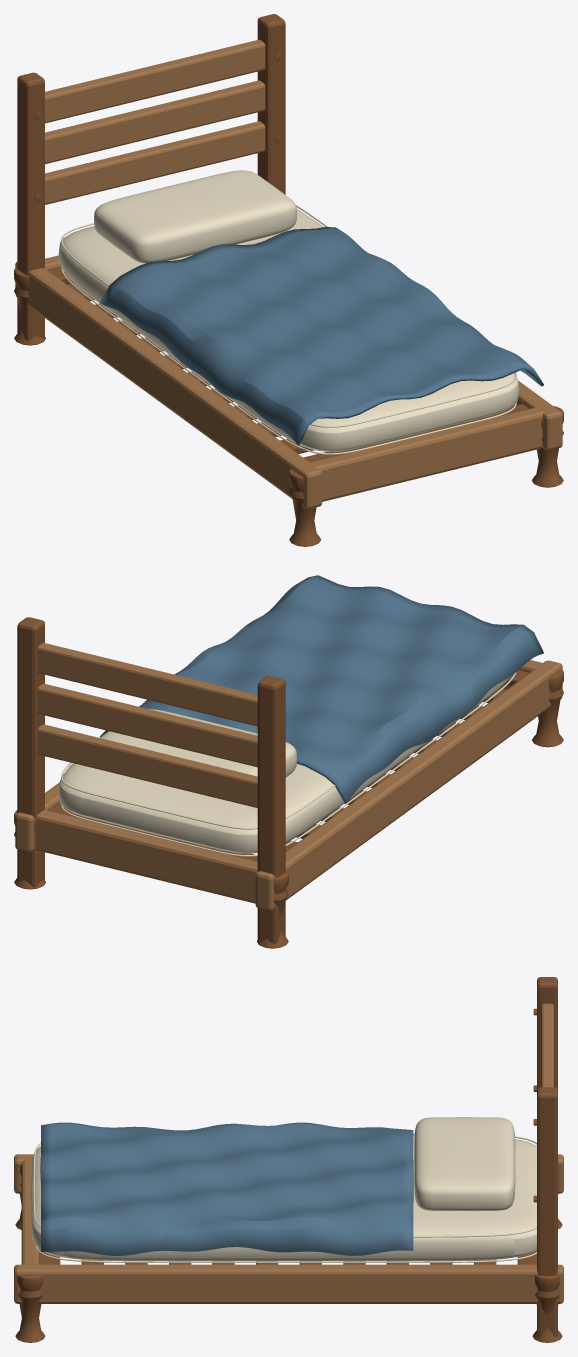
Rendered from bed_standard.glb.
The picture shows the model from 3 angles, top to bottom: view 1: azimuth 30°, elevation 25°; view 2: azimuth 150°, elevation 25°; view 3: azimuth 270°, elevation 25°; orthographic projection. The views are drawn at different scales.
Visible parts, largest first — view 1: duvet_sculpted_folds, mortised_side_rail, pillow, mattress, end_rail, head_slat.002, head_slat.001, head_slat, head_post, head_post.001, turned_bed_foot, mortised_side_rail.001 (+5 smaller); view 2: duvet_sculpted_folds, mortised_side_rail, mattress, end_rail.001, head_slat, head_slat.002, head_slat.001, head_post, head_post.001, pillow, turned_bed_foot, mattress_lower_piping (+4 smaller); view 3: duvet_sculpted_folds, mortised_side_rail.001, mattress, pillow, head_post.001, turned_bed_foot.002, end_rail, head_post, head_slat.002, mattress_lower_piping, turned_bed_foot.003, mattress_upper_piping (+1 smaller).
Part boxes in pixels (bbox=[...]): duvet_sculpted_folds: bbox=[99, 227, 543, 445]; mortised_side_rail: bbox=[15, 262, 322, 508]; pillow: bbox=[94, 170, 296, 263]; mattress: bbox=[58, 208, 519, 451]; end_rail: bbox=[295, 405, 555, 501]; head_slat.002: bbox=[45, 39, 265, 123]; head_slat.001: bbox=[45, 80, 265, 164]; head_slat: bbox=[45, 121, 265, 204]; head_post: bbox=[17, 72, 44, 341]; head_post.001: bbox=[257, 14, 285, 194]; turned_bed_foot: bbox=[289, 468, 321, 546]; mortised_side_rail.001: bbox=[513, 381, 562, 450]; duvet_sculpted_folds: bbox=[99, 575, 543, 802]; mortised_side_rail: bbox=[255, 660, 562, 910]; mattress: bbox=[58, 676, 511, 853]; end_rail.001: bbox=[35, 810, 257, 903]; head_slat: bbox=[37, 724, 257, 807]; head_slat.002: bbox=[37, 642, 257, 726]; head_slat.001: bbox=[37, 683, 257, 767]; head_post: bbox=[257, 676, 285, 944]; head_post.001: bbox=[17, 617, 44, 887]; pillow: bbox=[100, 709, 296, 794]; turned_bed_foot: bbox=[532, 669, 563, 747]; mattress_lower_piping: bbox=[61, 672, 516, 856]; duvet_sculpted_folds: bbox=[40, 1122, 413, 1255]; mortised_side_rail.001: bbox=[14, 1264, 563, 1303]; mattress: bbox=[30, 1135, 536, 1261]; pillow: bbox=[414, 1117, 515, 1210]; head_post.001: bbox=[537, 1087, 557, 1337]; turned_bed_foot.002: bbox=[15, 1275, 45, 1342]; end_rail: bbox=[21, 1154, 39, 1275]; head_post: bbox=[537, 977, 557, 1089]; head_slat.002: bbox=[541, 1003, 553, 1087]; mattress_lower_piping: bbox=[34, 1244, 536, 1262]; turned_bed_foot.003: bbox=[532, 1275, 562, 1342]; mattress_upper_piping: bbox=[33, 1133, 536, 1237].
Size of the model in its own units: 1.25 by 1.16 by 2.34.
